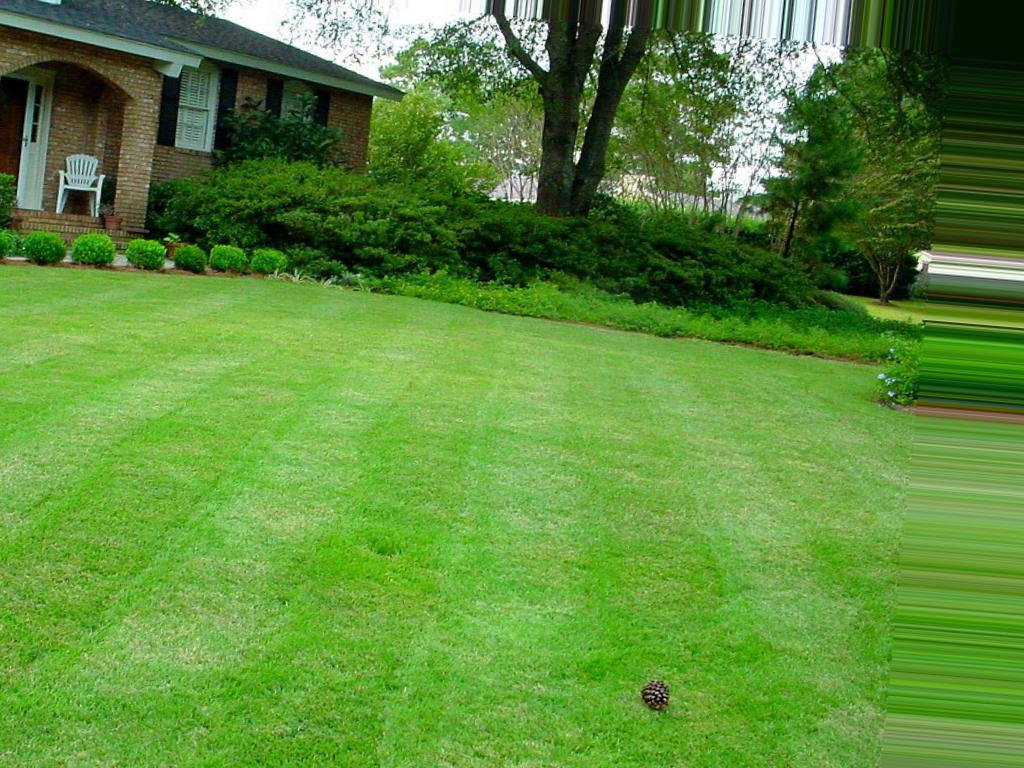patch: (644, 680, 667, 711)
